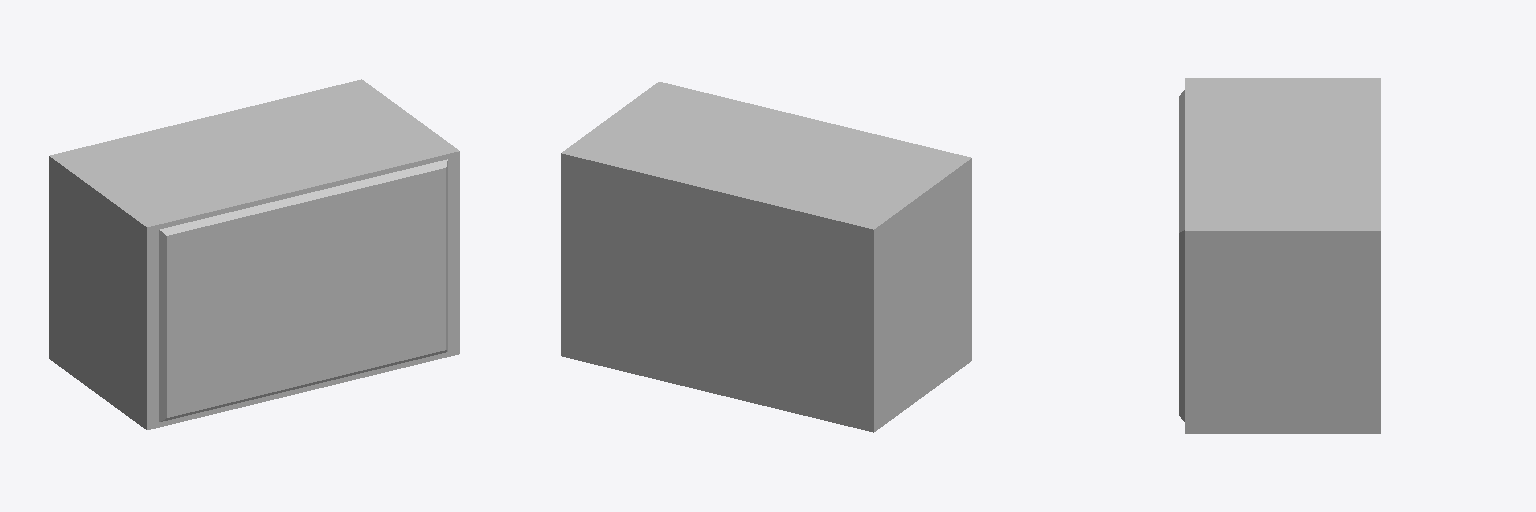
Rendered from breakroom_cabinet.obj.
The picture shows the model from 3 angles: view 1: azimuth 30°, elevation 25°; view 2: azimuth 150°, elevation 25°; view 3: azimuth 270°, elevation 25°; orthographic projection.
Parts seen in each view (by area): view 1: breakroom_cabinet breakRoom_cabinetry godot_exports; view 2: breakroom_cabinet breakRoom_cabinetry godot_exports; view 3: breakroom_cabinet breakRoom_cabinetry godot_exports.
Boxes of the visible parts, x1,y1,x2,y2 form: breakroom_cabinet breakRoom_cabinetry godot_exports: [49, 79, 459, 429]; breakroom_cabinet breakRoom_cabinetry godot_exports: [561, 82, 971, 432]; breakroom_cabinet breakRoom_cabinetry godot_exports: [1179, 78, 1380, 433].
Bounding box in the file's own units: 1.09 × 0.6748 × 0.6089.